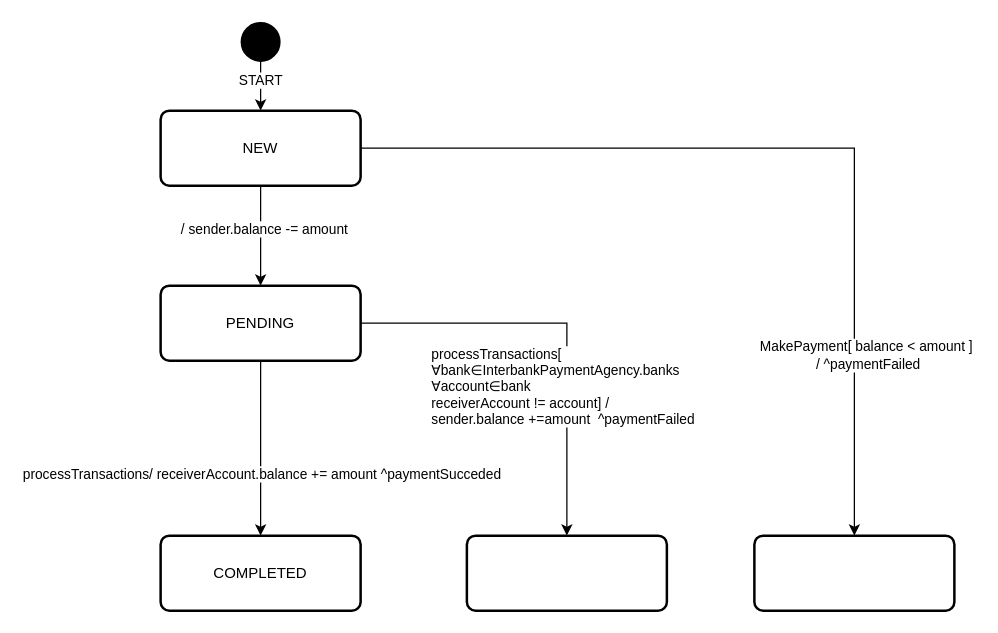
Image size: 998x633. Some labels were removed from this diagram. The shapes that lost their labels are listed below. From the top down, each one's centre as x and y in pixels, then its label:
At (566,572): "ACCOUNT_NOT_FOUND".
At (853,572): "INSUFFICIENT_FUNDS".
